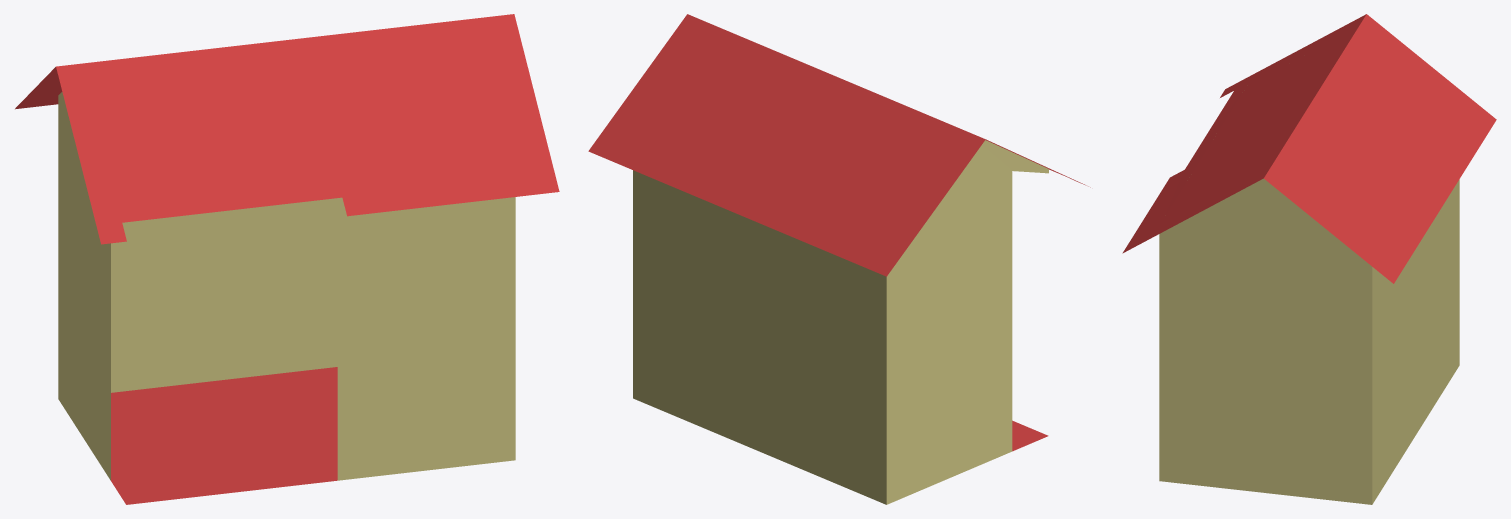
3 renders of one model, left to right at view 1: azimuth 30°, elevation 25°; view 2: azimuth 150°, elevation 25°; view 3: azimuth 270°, elevation 25°, orthographic. The views are drawn at different scales.
Size of the model in its own units: 15.22 by 12.36 by 11.93.
